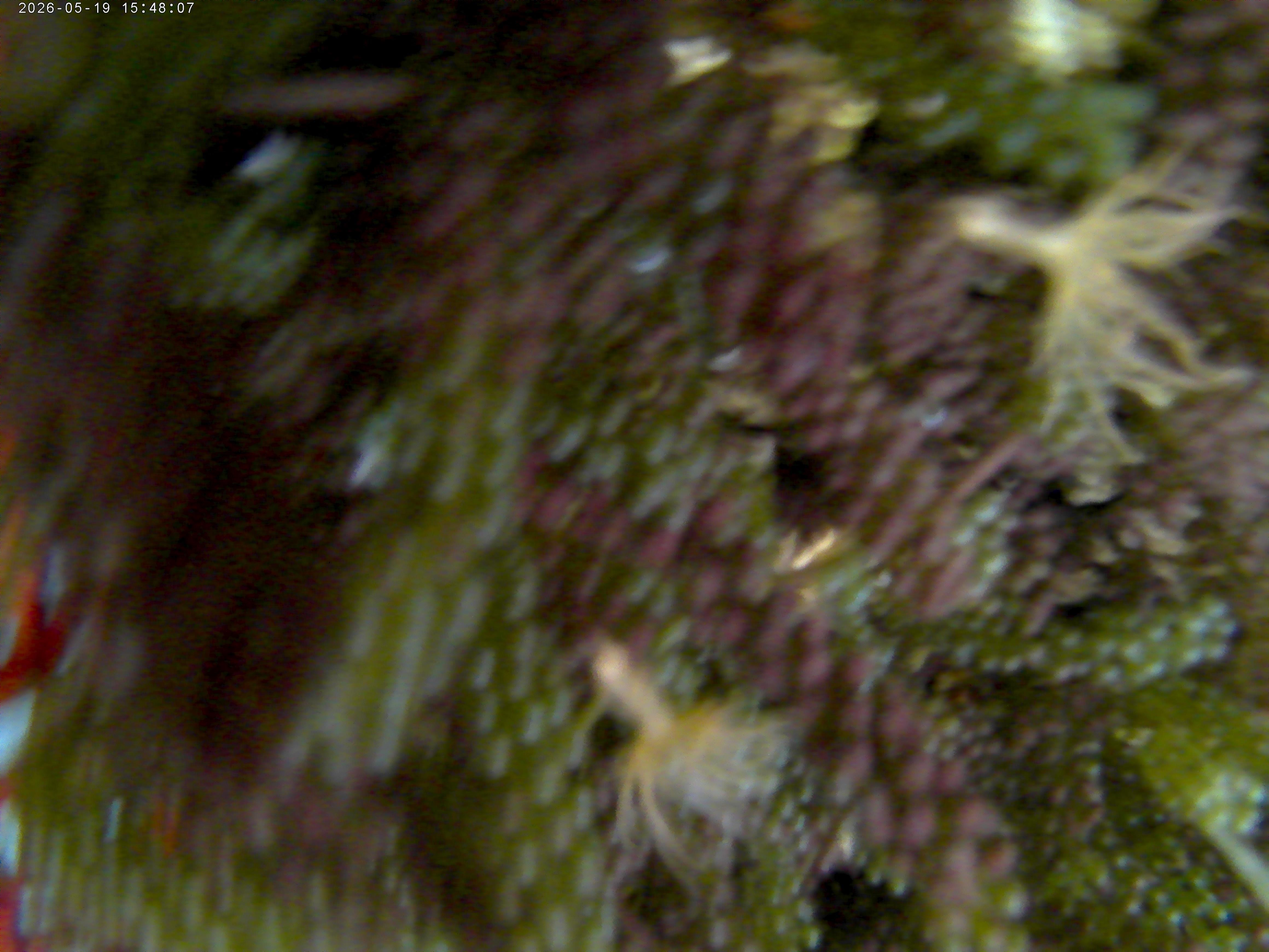Darkening: (900, 805, 940, 854), (896, 756, 934, 803), (682, 560, 720, 606), (875, 708, 916, 749), (639, 527, 676, 570), (980, 835, 1019, 875), (794, 649, 833, 688), (875, 676, 914, 714), (932, 756, 965, 800), (836, 693, 868, 737), (838, 741, 871, 782), (755, 665, 789, 700), (795, 615, 827, 650), (837, 656, 867, 690), (756, 630, 785, 662), (1015, 725, 1044, 750), (1033, 534, 1061, 559), (1027, 559, 1053, 583), (1008, 574, 1033, 597), (1079, 781, 1103, 804), (1117, 529, 1142, 551), (1044, 722, 1069, 743), (1049, 786, 1069, 807), (963, 744, 982, 761), (977, 721, 994, 737), (987, 740, 1003, 756)
Harvestable: (979, 127, 1028, 175), (1044, 148, 1080, 183), (997, 886, 1029, 920), (979, 549, 1011, 580), (1024, 643, 1052, 673), (1181, 614, 1208, 641), (1233, 810, 1260, 837), (947, 643, 975, 669), (1199, 595, 1226, 621), (1122, 640, 1148, 666), (1210, 806, 1234, 830), (797, 925, 820, 950), (917, 129, 943, 151), (939, 716, 963, 739), (981, 596, 1005, 619), (793, 898, 816, 922), (982, 530, 1006, 553), (770, 912, 794, 935), (1205, 641, 1228, 664), (1179, 646, 1204, 667), (1092, 638, 1118, 658), (989, 619, 1012, 641), (1145, 623, 1169, 644), (1096, 667, 1121, 687), (979, 653, 1001, 675), (1215, 617, 1238, 638), (1246, 783, 1267, 806), (1058, 629, 1082, 649), (1122, 611, 1144, 632), (1093, 867, 1112, 891), (1163, 793, 1185, 813), (1165, 907, 1185, 928), (1004, 598, 1024, 619), (967, 615, 988, 635), (1099, 829, 1120, 849), (1232, 895, 1252, 916), (1083, 761, 1103, 782), (1053, 660, 1072, 682), (1145, 659, 1164, 680), (1151, 890, 1171, 908), (1114, 852, 1133, 870), (1124, 898, 1142, 917), (1003, 655, 1021, 673), (1151, 857, 1169, 875), (947, 614, 965, 632), (1041, 841, 1058, 858), (1257, 927, 1269, 950), (1074, 659, 1092, 674), (1125, 813, 1142, 828)
